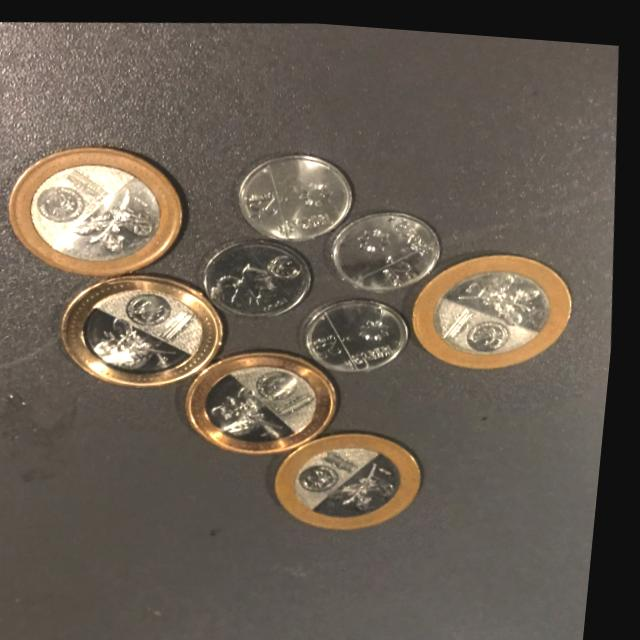20_New_Back: (454, 255, 553, 325), (91, 312, 191, 378), (77, 184, 164, 258), (216, 375, 301, 441), (339, 454, 418, 518)
25Cent_New_Back: (213, 253, 288, 310)
25Cent_New_Front: (240, 177, 287, 222), (386, 245, 431, 280), (313, 323, 354, 361)
